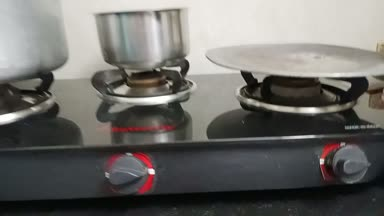flame_gas_off: (241, 71, 384, 192), (88, 63, 207, 201)
